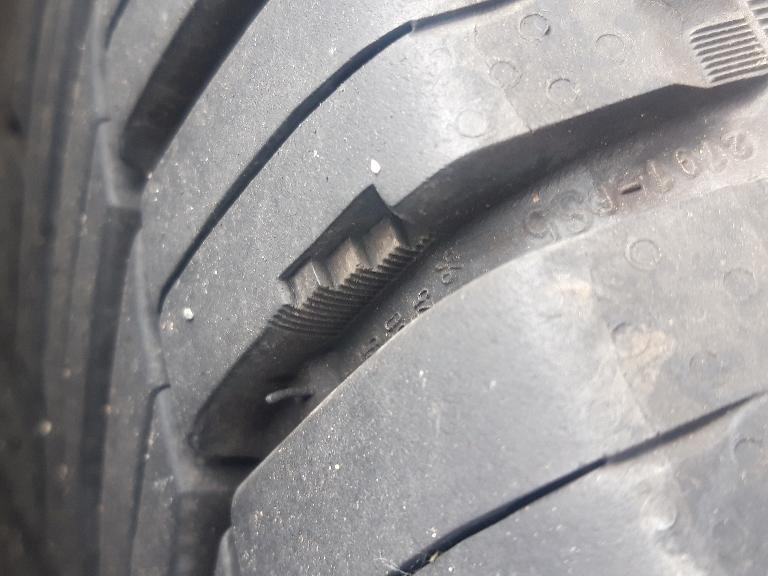temoin:90: (258, 175, 449, 348)
